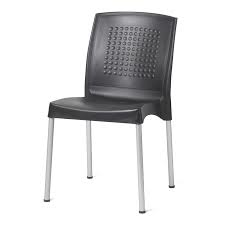chair: (43, 13, 180, 215)
